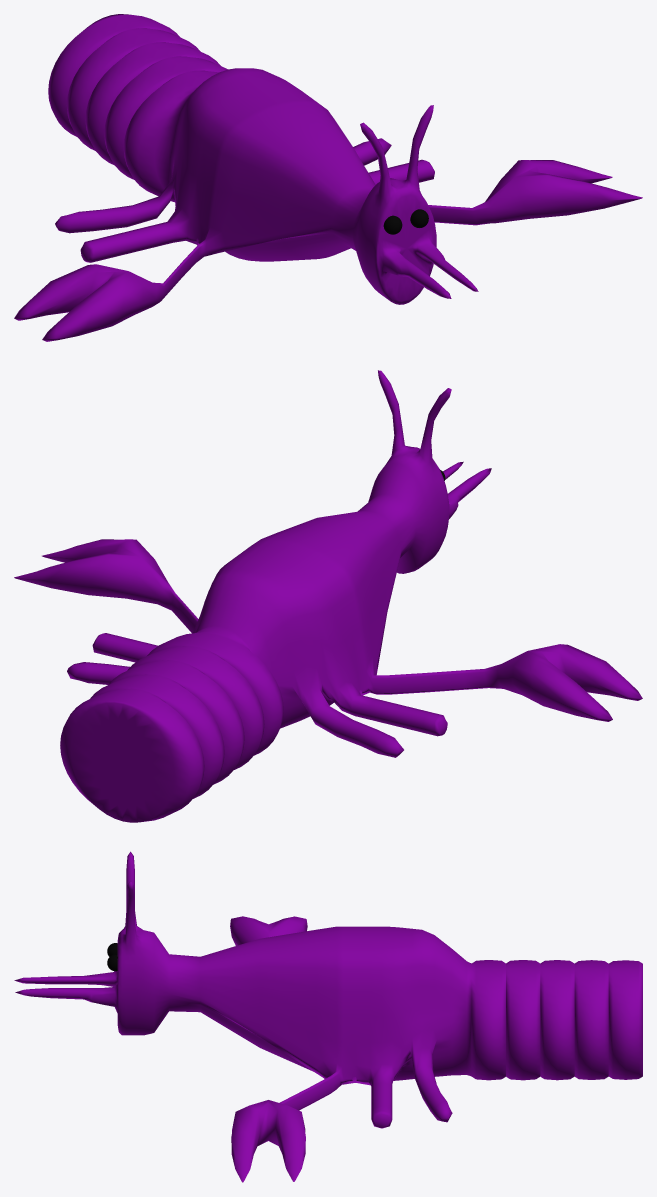
Rendered from Lobster.fbx.
3 renders of one model, top to bottom at view 1: azimuth 30°, elevation 25°; view 2: azimuth 150°, elevation 25°; view 3: azimuth 270°, elevation 25°, orthographic. The views are drawn at different scales.
Visible parts, largest first — view 1: Lobster1; view 2: Lobster1; view 3: Lobster1.
Part boxes in pixels (x1=…): Lobster1: x1=14, y1=14, x2=642, y2=341; Lobster1: x1=14, y1=370, x2=642, y2=822; Lobster1: x1=14, y1=851, x2=642, y2=1182.
Size of the model in its own units: 72.78 by 26.72 by 74.45.
